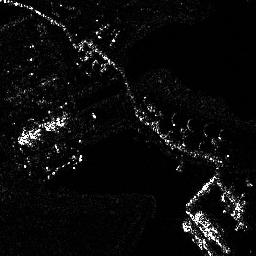ship: (182, 219, 214, 256), (194, 210, 224, 239)
